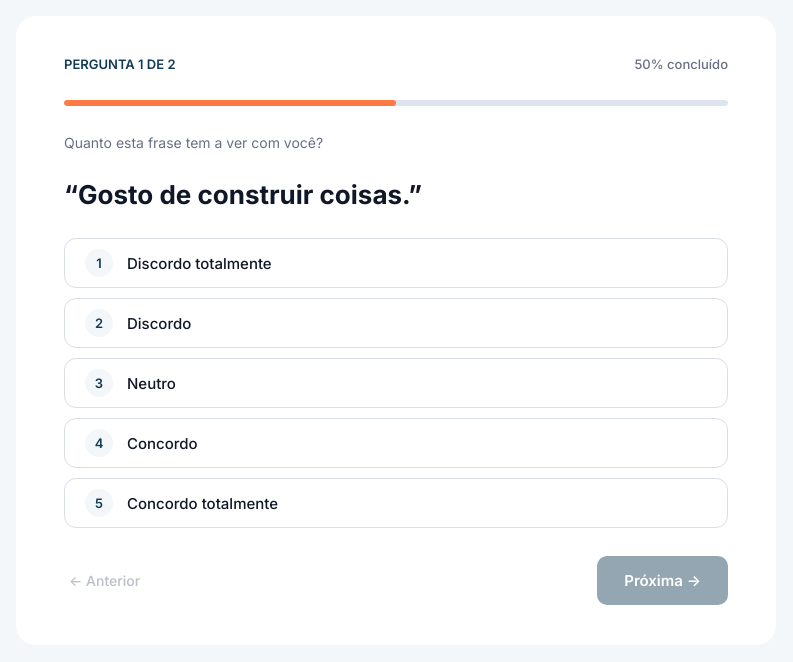
Test: QuestionnaireComponent › enables "Próxima" only after an option is chosen
expect the button "Próxima →" is disabled: met, box [597,556,728,605]
Click the radio button with class "option" showing "4 Concordo" at (162, 443), box [64,418,728,468]
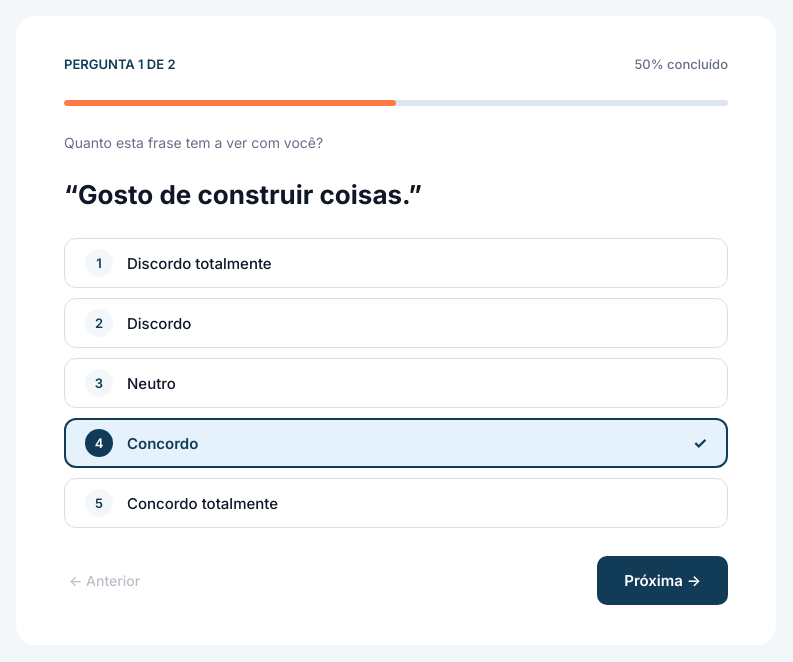
expect the button "Próxima →" is enabled: met, box [597,556,728,605]
